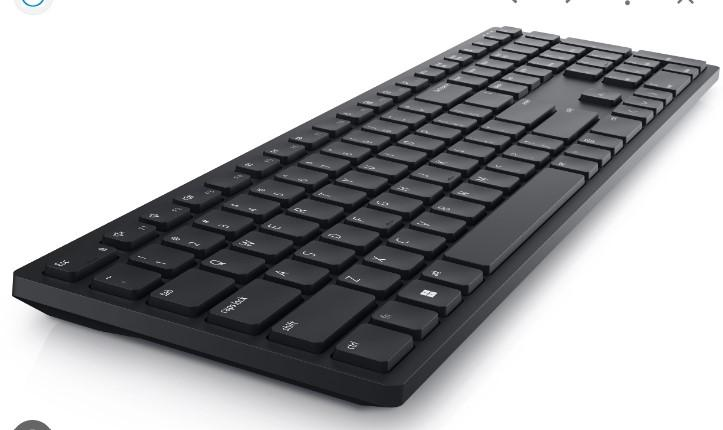Keyboard: (11, 26, 722, 408)
